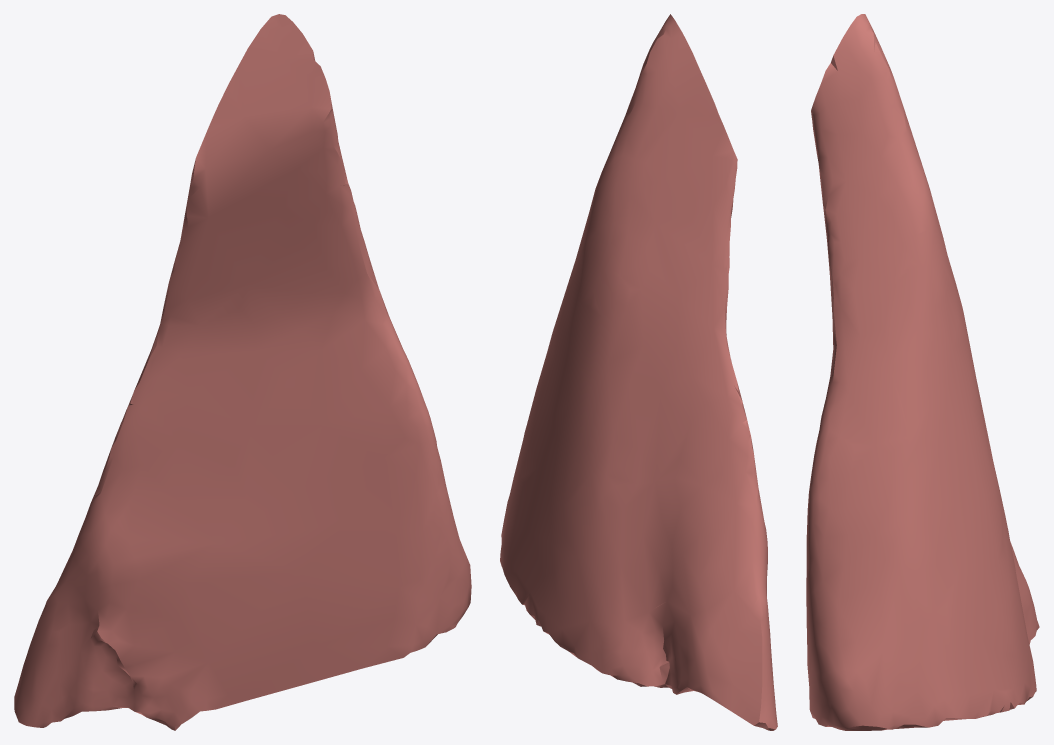
The model's file is fma326751-l_mm1867m.glb.
The picture shows the model from 3 angles, left to right: view 1: azimuth 30°, elevation 25°; view 2: azimuth 150°, elevation 25°; view 3: azimuth 270°, elevation 25°; orthographic projection. The views are drawn at different scales.
Parts seen in each view (by area): view 1: FMA326751-L_MM1867M; view 2: FMA326751-L_MM1867M; view 3: FMA326751-L_MM1867M.
Boxes of the visible parts, <box> form: FMA326751-L_MM1867M: <box>14,14,471,730</box>; FMA326751-L_MM1867M: <box>500,14,777,730</box>; FMA326751-L_MM1867M: <box>806,14,1039,730</box>.
Bounding box in the file's own units: 0.0164 × 0.0301 × 0.0089.
